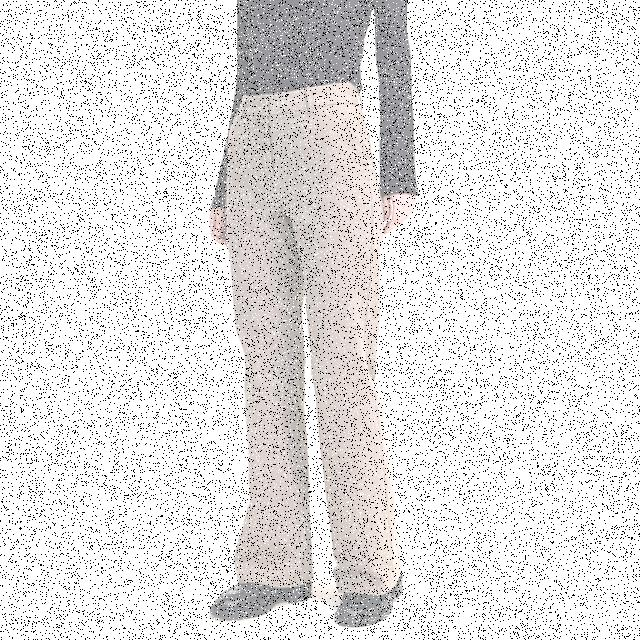dress: (218, 78, 410, 590)
